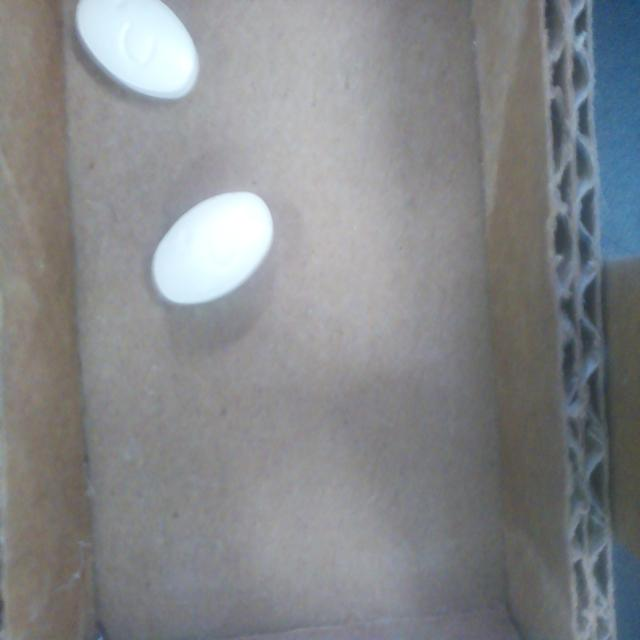pill: (152, 192, 273, 305), (75, 0, 199, 99)
